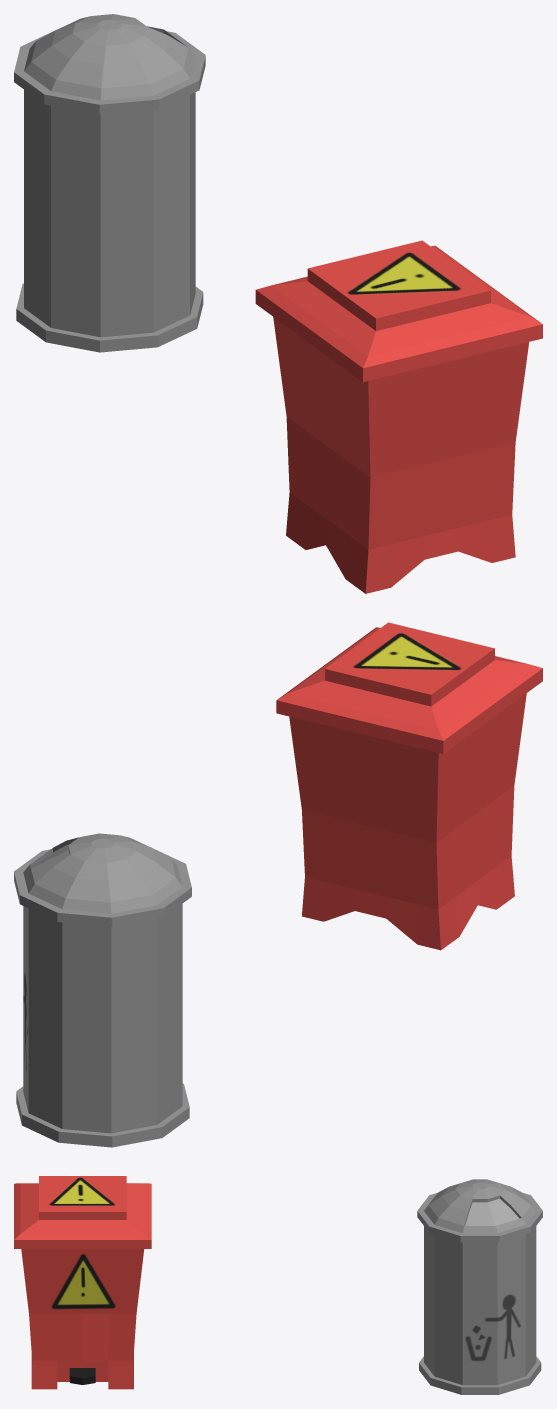
File: TrashBin.fbx
The picture shows the model from 3 angles, top to bottom: view 1: azimuth 30°, elevation 25°; view 2: azimuth 150°, elevation 25°; view 3: azimuth 270°, elevation 25°; orthographic projection. The views are drawn at different scales.
Visible parts, largest first — view 1: MedTrash, Trash Bin; view 2: MedTrash, Trash Bin; view 3: MedTrash, Trash Bin.
Boxes of the visible parts, x1,y1,x2,y2 form: MedTrash: (255,240,542,593); Trash Bin: (14,14,205,352); MedTrash: (276,622,542,950); Trash Bin: (14,833,191,1147); MedTrash: (14,1176,151,1389); Trash Bin: (417,1179,542,1394).
Bounding box in the file's own units: 60.13 × 87.09 × 225.
Materials: 2 (2 with a texture image).
